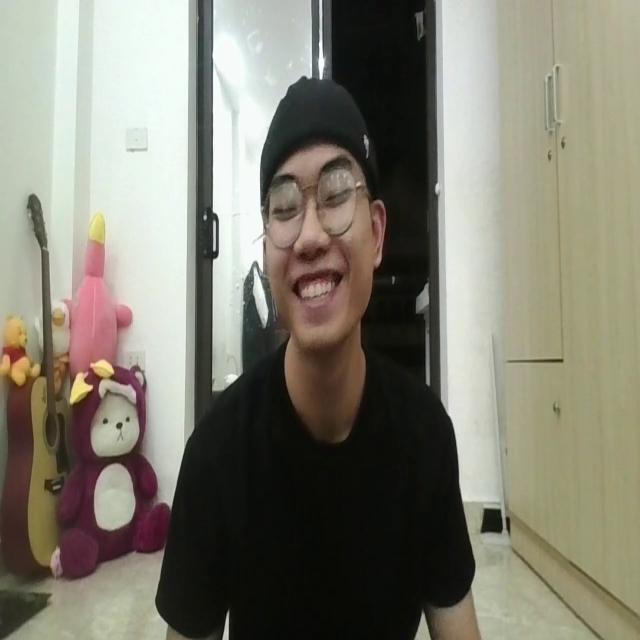student: (153, 72, 482, 640)
